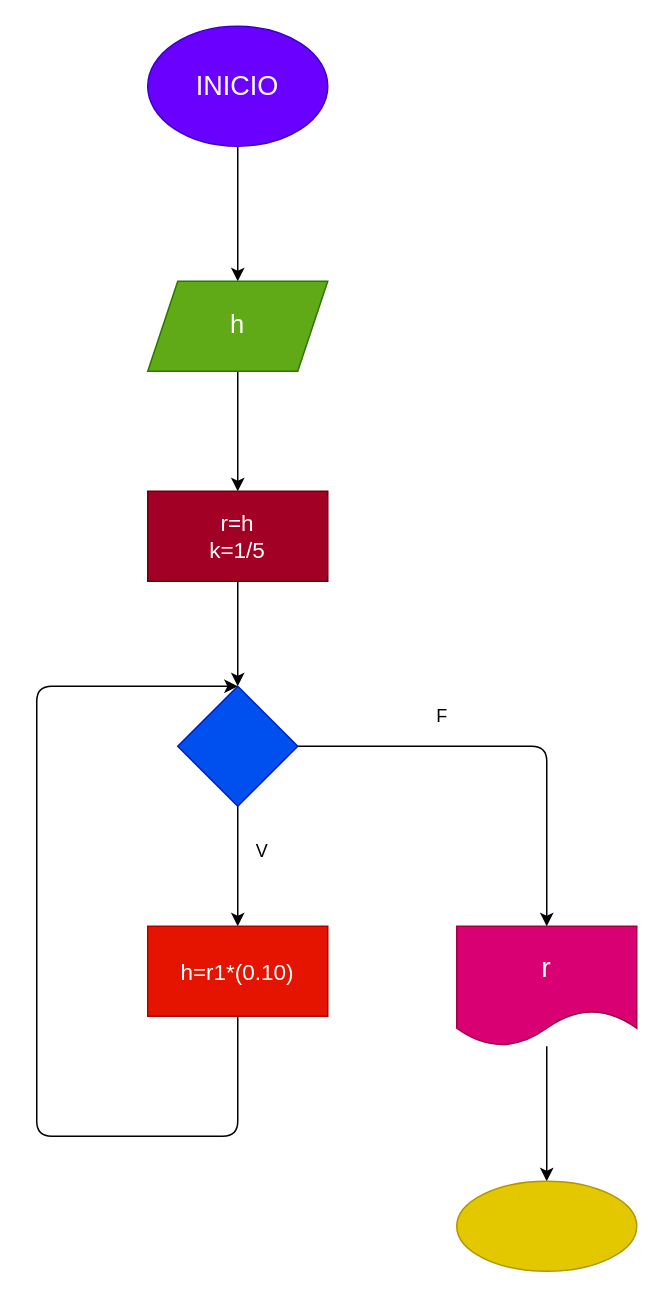
Image size: 663x1298. Some labels were removed from this diagram. Here are the shapes that lost their labels. From the top down, the box of each, then its label:
(176, 685, 298, 806): h<k
(455, 1180, 637, 1271): FIN
